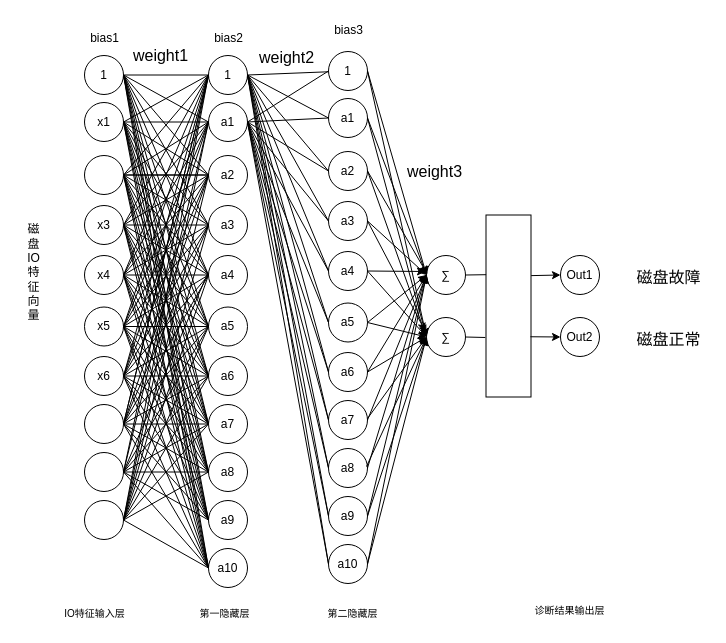
Some shapes in this 726 by 643 pixel diagram are drawn without their labels. Each missing label, with the centre of its shape:
"softmax" belongs at [508,305].
"x2" belongs at [104,174].
"x7" belongs at [104,424].
"x8" belongs at [104,472].
"x9" belongs at [104,520].
